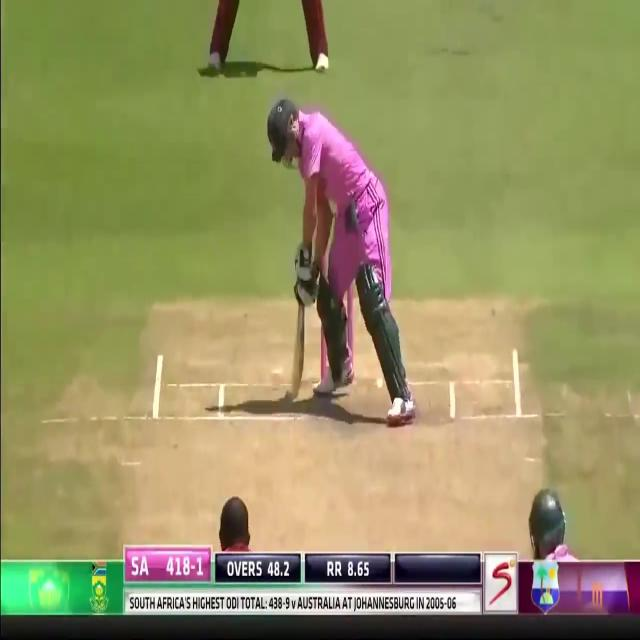Ball: (264, 56, 412, 416)
Fielder: (205, 0, 249, 76)
